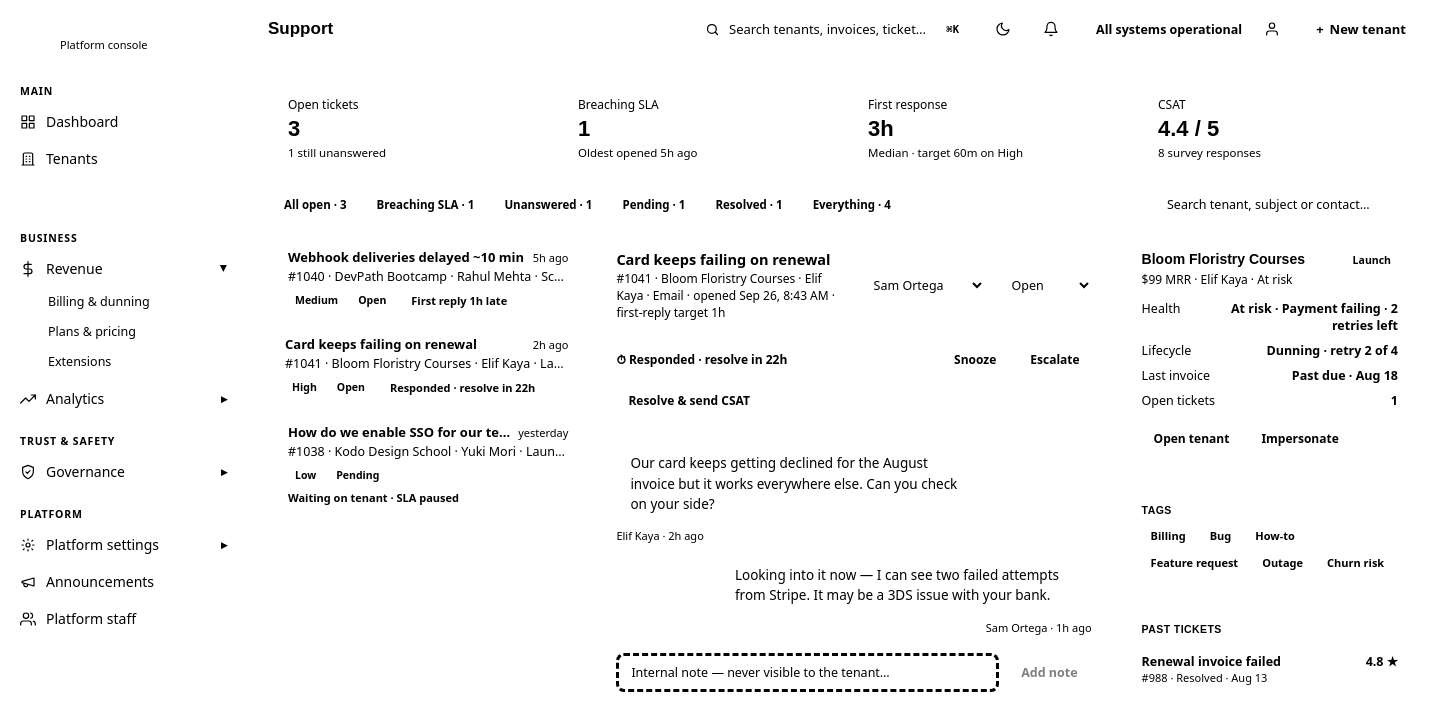
Test case: support inbox › saves internal notes flagged as internal and styles them apart
The width and height of the screenshot is (1440, 704).
expect the heading "Card keeps failing on renewal" is shown: met, box 616,249 -> 847,269
Type "Bank is Garanti — known 3DS issue" into the field labelled "Internal note" at (808, 672), box 616,652 -> 999,692
Then press Enter
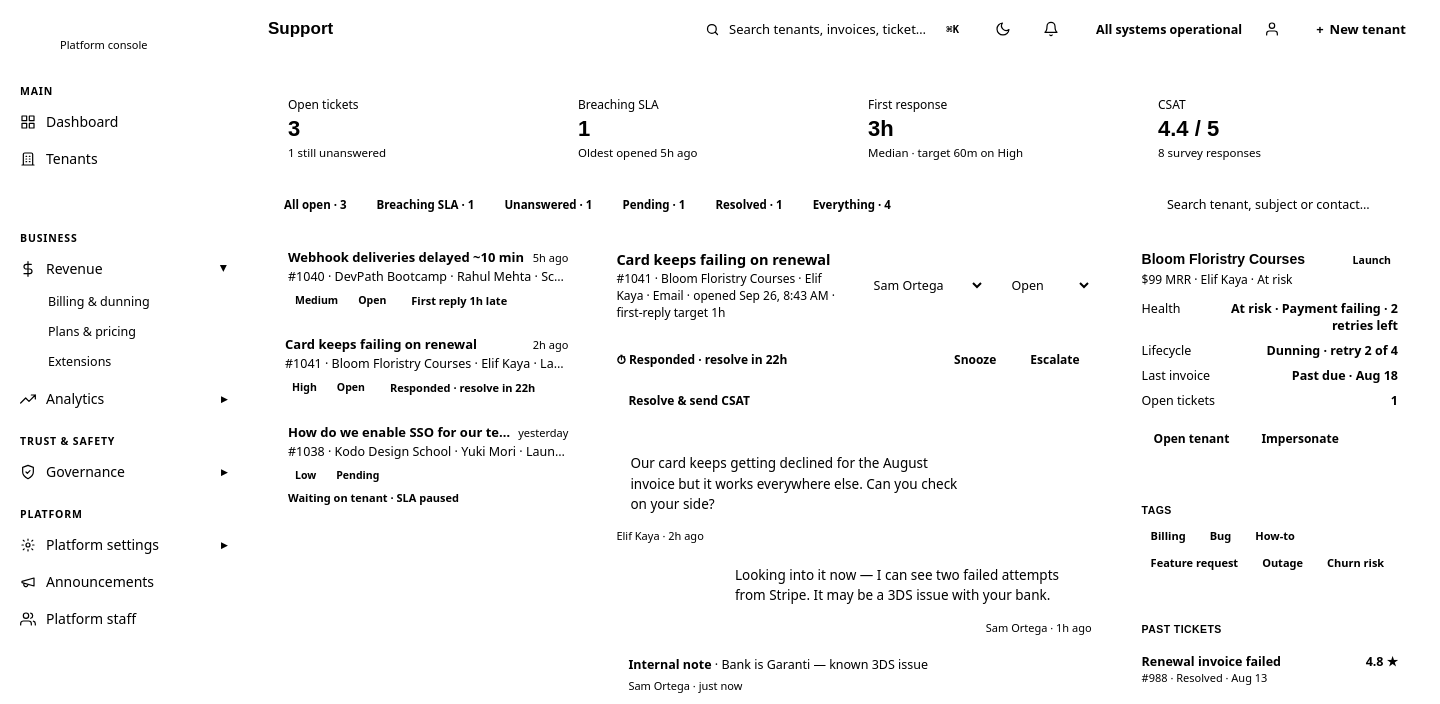
expect the text "Internal note" is shown: met, box 628,656 -> 712,672
